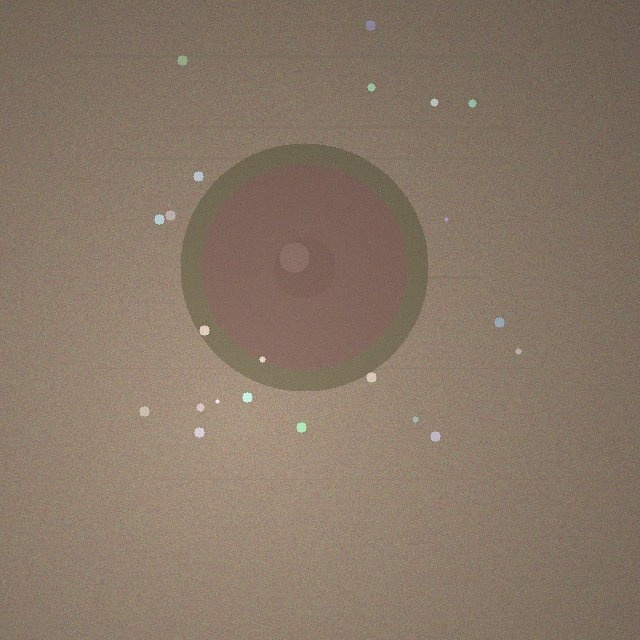overburn: (180, 143, 428, 391)
